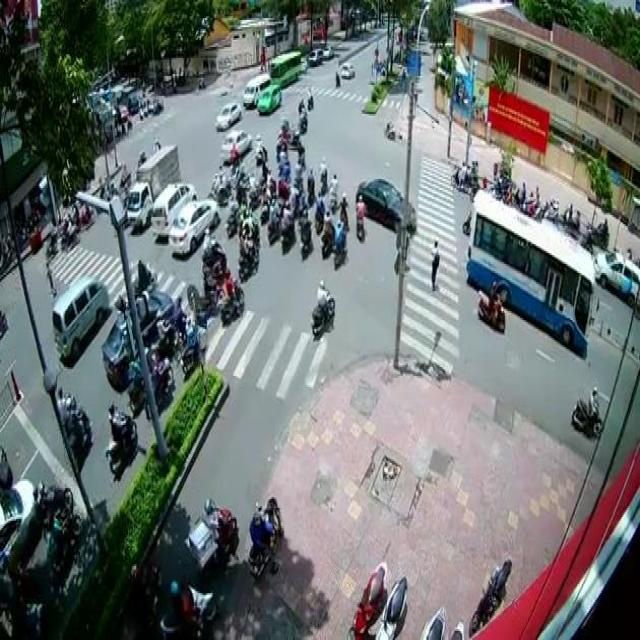bus: (468, 186, 594, 358), (269, 50, 302, 86)
car: (102, 287, 174, 388), (354, 174, 416, 235), (170, 197, 220, 255), (593, 248, 639, 306), (150, 179, 197, 233), (219, 126, 252, 162), (212, 98, 241, 130), (255, 83, 281, 116)
motorcycle: (105, 402, 137, 478), (65, 394, 92, 470), (569, 383, 602, 438), (475, 276, 505, 332), (180, 315, 207, 374), (310, 277, 335, 338), (219, 268, 244, 326), (153, 306, 178, 362), (237, 230, 258, 284), (278, 197, 296, 255), (332, 220, 348, 268), (206, 172, 228, 206), (449, 159, 469, 194), (299, 210, 313, 260), (354, 190, 366, 240), (338, 192, 348, 230)
truck: (49, 273, 108, 363), (125, 143, 180, 231), (242, 73, 271, 109)
